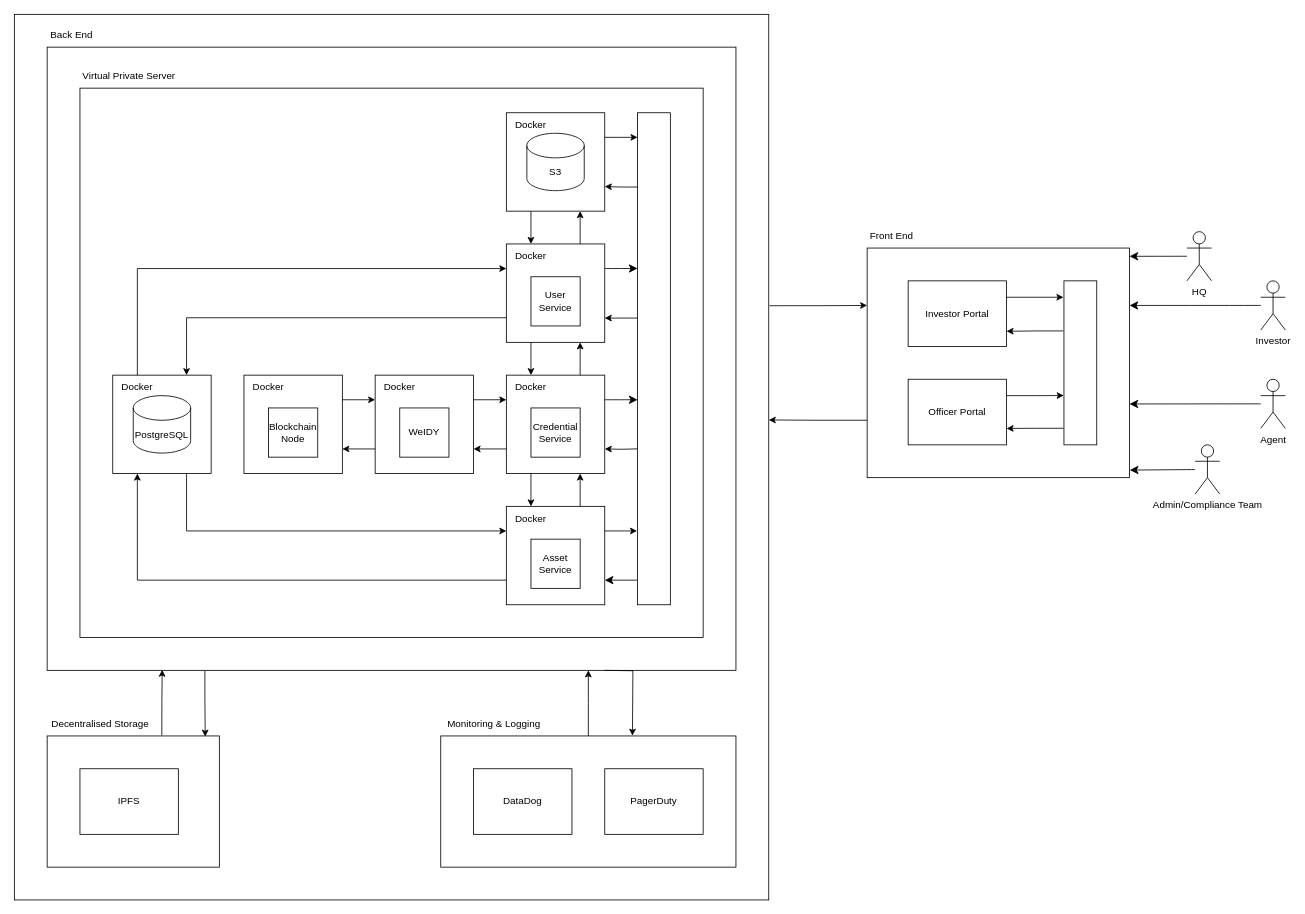
The diagram is 1305 pixels wide and 914 high, and some of its shapes have lost their labels. The shapes that lost their labels are listed below. From the top down, each one's box as (x1, y1, x2, y2) in pixels, then its label:
(637, 112, 670, 605): API Gateway
(1063, 280, 1097, 445): Cloudflare CDN
